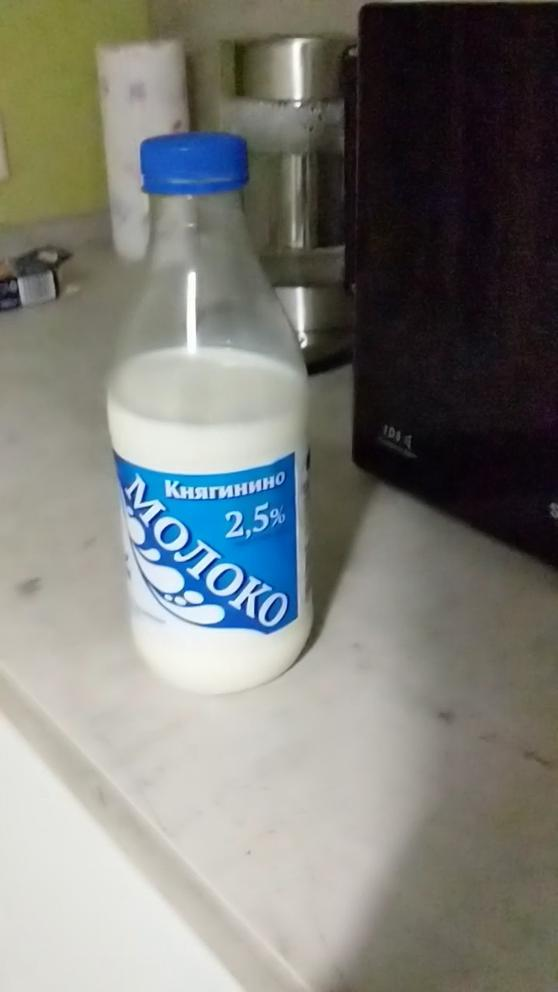milk: (75, 125, 355, 712)
